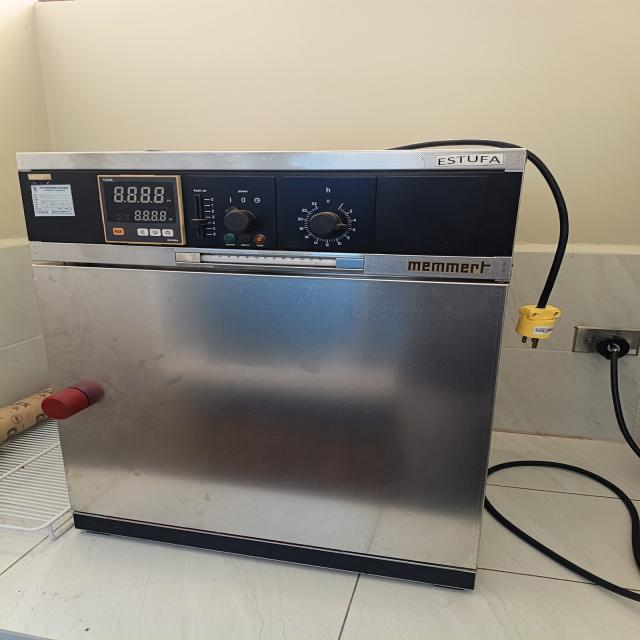Stufa de Laboratorio de Conveccion: (17, 139, 567, 588)
